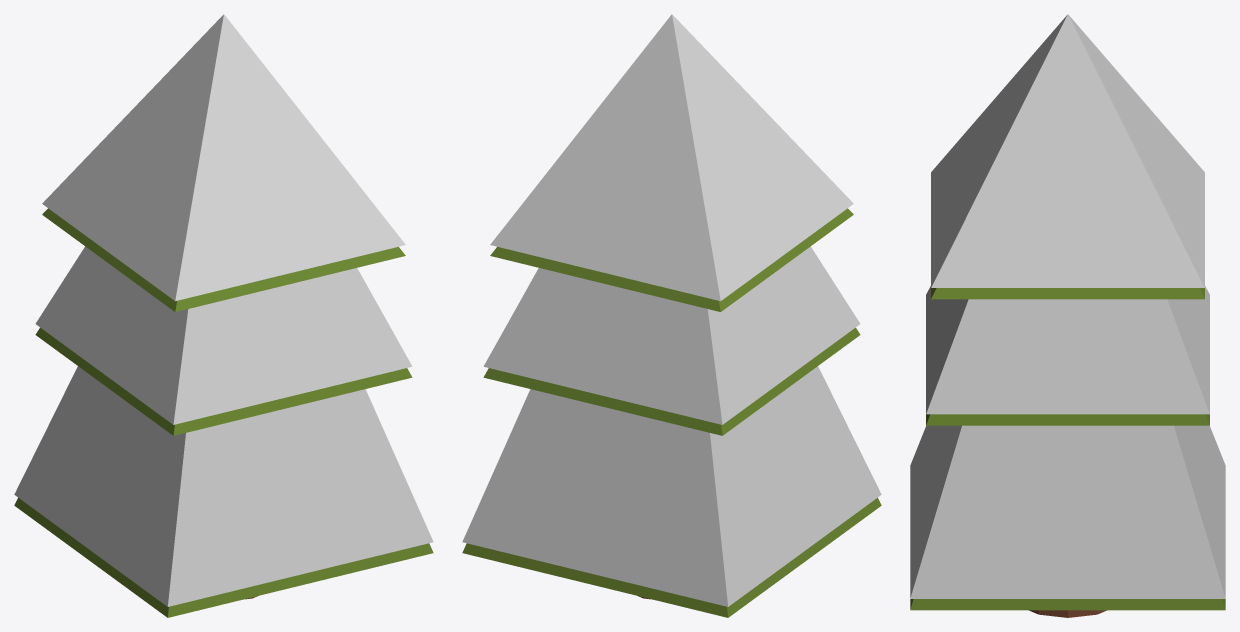
The model's file is Tree_18_winter_mat.fbx.
The picture shows the model from 3 angles, left to right: view 1: azimuth 30°, elevation 25°; view 2: azimuth 150°, elevation 25°; view 3: azimuth 270°, elevation 25°; orthographic projection. The views are drawn at different scales.
Visible parts, largest first — view 1: Tree_18_winter_mat; view 2: Tree_18_winter_mat; view 3: Tree_18_winter_mat.
Part boxes in pixels (x1,y1,x2,y2): Tree_18_winter_mat: (14,14,433,617); Tree_18_winter_mat: (462,14,881,617); Tree_18_winter_mat: (910,14,1225,617).
Size of the model in its own units: 3.84 by 7.77 by 3.84.
